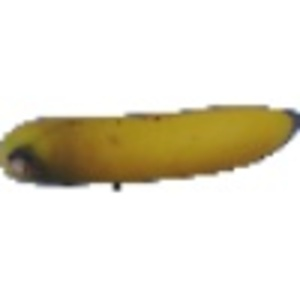banana: (2, 101, 297, 190)
